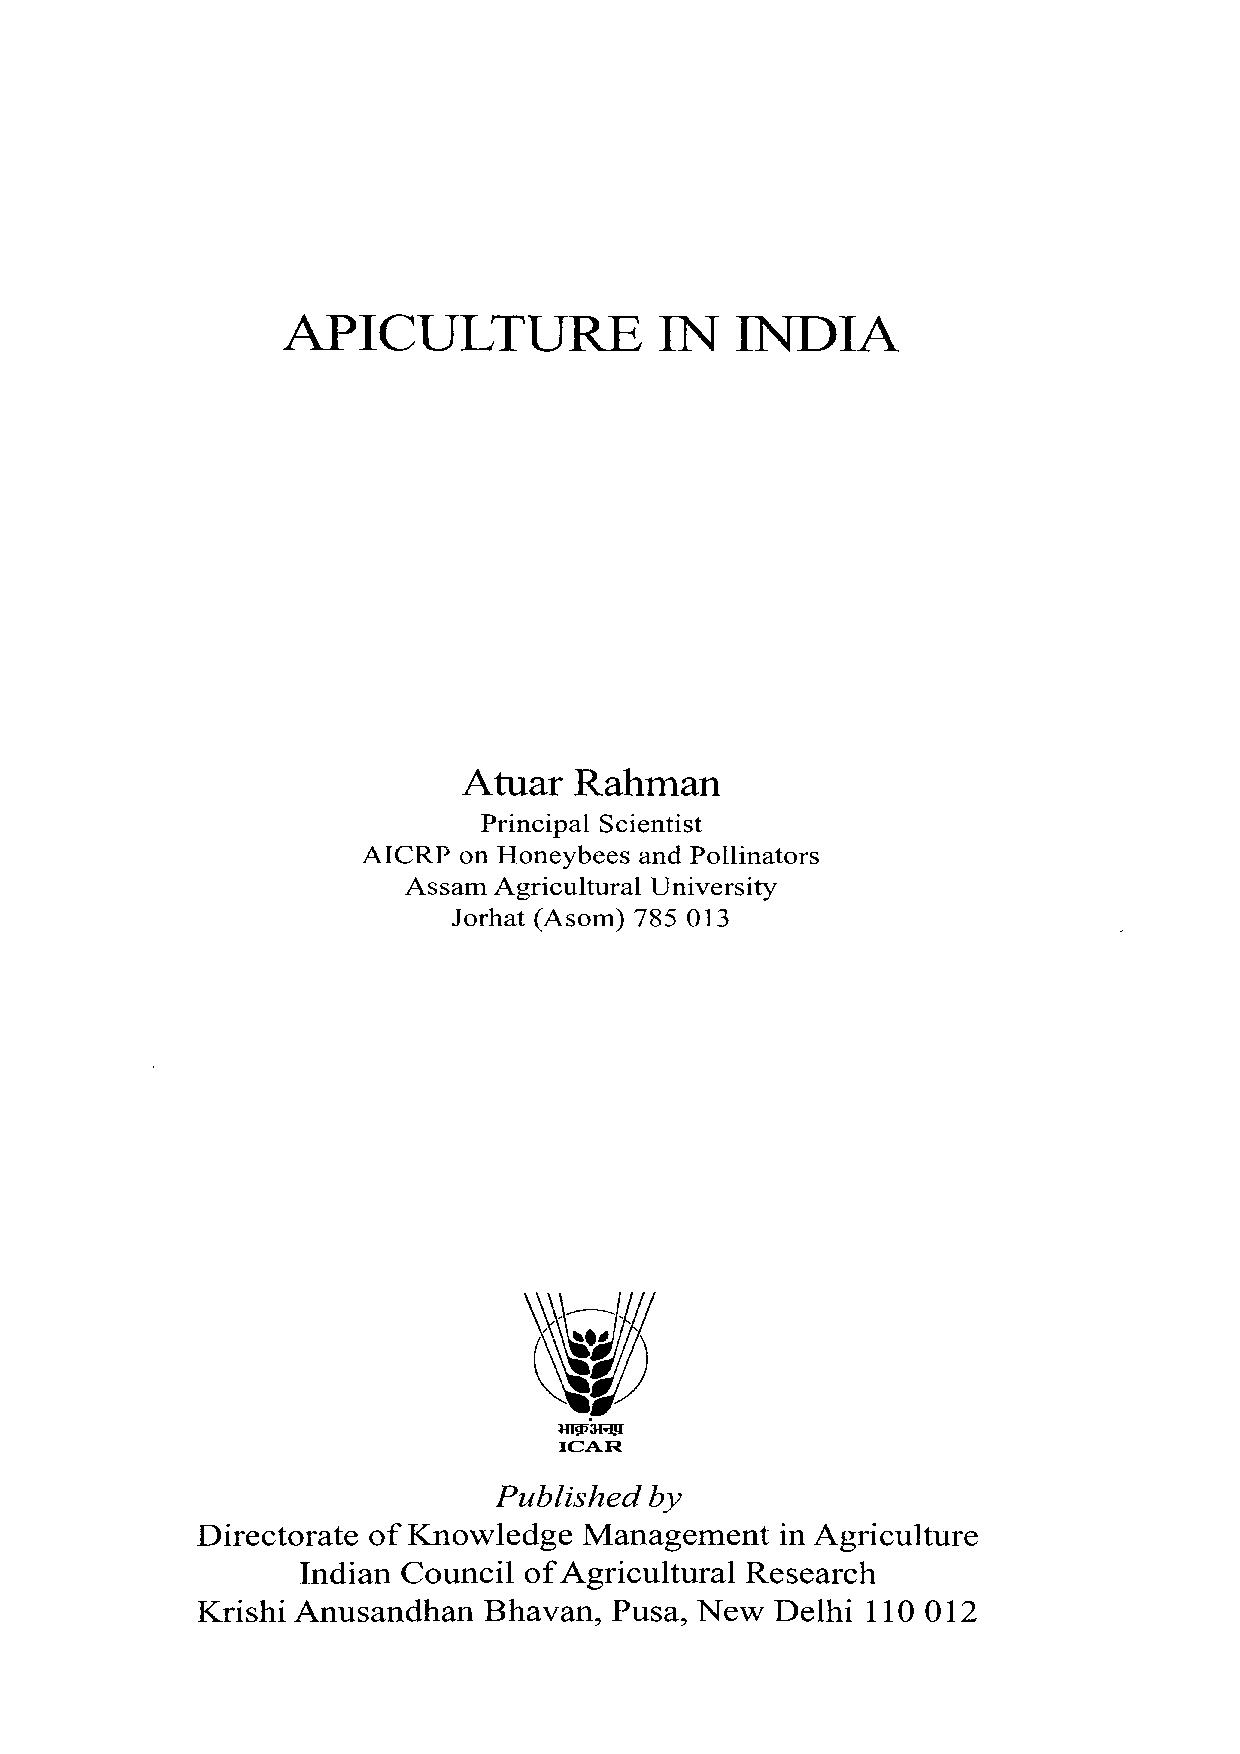author: (458, 765, 721, 797)
title: (280, 311, 900, 352)
